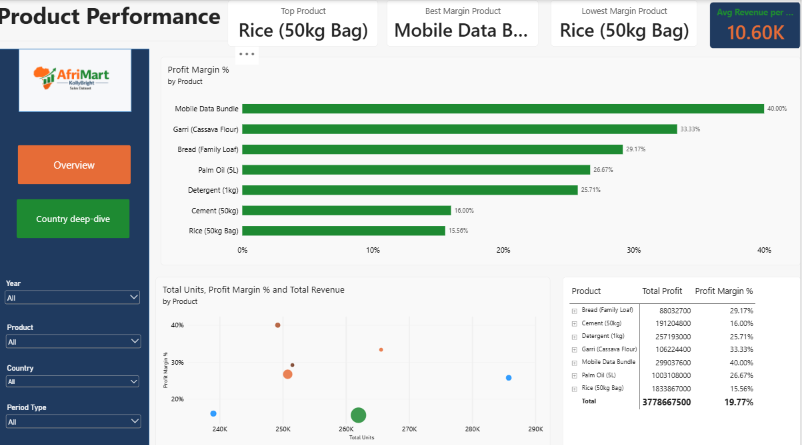

The dashboard page shown, as its layout file describes it:
{"tool":"powerbi","page":{"name":"Product performance","canvas":[1920,1080],"ordinal":1},"visuals":[{"type":"pivotTable","fields":{"Rows":["Sales.Product","Sales.Revenue"],"Values":["_Measures.Total Profit","_Measures.Profit Margin %"]},"box":[1349.4,661.9,570.6,408],"z":0},{"type":"clusteredBarChart","fields":{"Category":["Sales.Product"],"Y":["_Measures.Profit Margin %"]},"box":[390.8,136.9,1529.2,496.4],"z":1000},{"type":"scatterChart","fields":{"Category":["Sales.Product"],"Size":["_Measures.Total Revenue"],"X":["_Measures.Total Units"],"Y":["_Measures.Profit Margin %"]},"box":[379.4,661.9,941.5,408],"z":2000},{"type":"shape","box":[0,117,364.3,958.2],"z":3000},{"type":"shape","box":[51.4,117,269,150],"z":4000},{"type":"image","box":[0,94.1,378.2,195.3],"z":5000},{"type":"slicer","fields":{"Values":["DimDate.Year"]},"box":[14.3,664.7,332.5,79],"z":6000},{"type":"slicer","fields":{"Values":["Sales.Period Type"]},"box":[17.1,961.4,332.5,79],"z":7000},{"type":"slicer","fields":{"Values":["Sales.Country"]},"box":[17.1,867.3,327.9,87.4],"z":8000},{"type":"slicer","fields":{"Values":["Sales.Product"]},"box":[17.1,770.3,332.5,95.6],"z":9000},{"type":"actionButton","box":[47.4,473.6,269.7,94],"z":10000},{"type":"actionButton","box":[51,346.1,269.7,94],"z":11000},{"type":"textbox","box":[0,0,627.6,97],"z":12000},{"type":"cardVisual","fields":{"Data":["_Measures.Top Product"]},"box":[550.6,0,359.5,111.3],"z":13000},{"type":"cardVisual","fields":{"Data":["_Measures.Best Margin Product"]},"box":[930,0,362.3,111.3],"z":14000},{"type":"cardVisual","fields":{"Data":["_Measures.Lowest Margin Product"]},"box":[1320.9,0,350.9,111.3],"z":15000},{"type":"cardVisual","fields":{"Data":["_Measures.Avg Revenue per Unit"]},"box":[1700.3,5.7,219.7,111.3],"z":16000}]}

Visuals, with their boxes in screenshot pixels (x1, y1, x2, y2), scaled from the page's 1920x1080 canvas onto the 802x445 screenshot:
pivotTable - Sales.Product x Sales.Revenue: pyautogui.locateOnScreen(564, 273, 801, 441)
clusteredBarChart - Sales.Product x _Measures.Profit Margin %: pyautogui.locateOnScreen(163, 56, 801, 261)
scatterChart - Sales.Product x _Measures.Total Revenue: pyautogui.locateOnScreen(158, 273, 552, 441)
shape: pyautogui.locateOnScreen(0, 48, 152, 443)
shape: pyautogui.locateOnScreen(21, 48, 134, 110)
image: pyautogui.locateOnScreen(0, 39, 158, 119)
slicer - DimDate.Year: pyautogui.locateOnScreen(6, 274, 145, 306)
slicer - Sales.Period Type: pyautogui.locateOnScreen(7, 396, 146, 429)
slicer - Sales.Country: pyautogui.locateOnScreen(7, 357, 144, 393)
slicer - Sales.Product: pyautogui.locateOnScreen(7, 317, 146, 357)
actionButton: pyautogui.locateOnScreen(20, 195, 132, 234)
actionButton: pyautogui.locateOnScreen(21, 143, 134, 181)
textbox: pyautogui.locateOnScreen(0, 0, 262, 40)
cardVisual - _Measures.Top Product: pyautogui.locateOnScreen(230, 0, 380, 46)
cardVisual - _Measures.Best Margin Product: pyautogui.locateOnScreen(388, 0, 540, 46)
cardVisual - _Measures.Lowest Margin Product: pyautogui.locateOnScreen(552, 0, 698, 46)
cardVisual - _Measures.Avg Revenue per Unit: pyautogui.locateOnScreen(710, 2, 801, 48)
